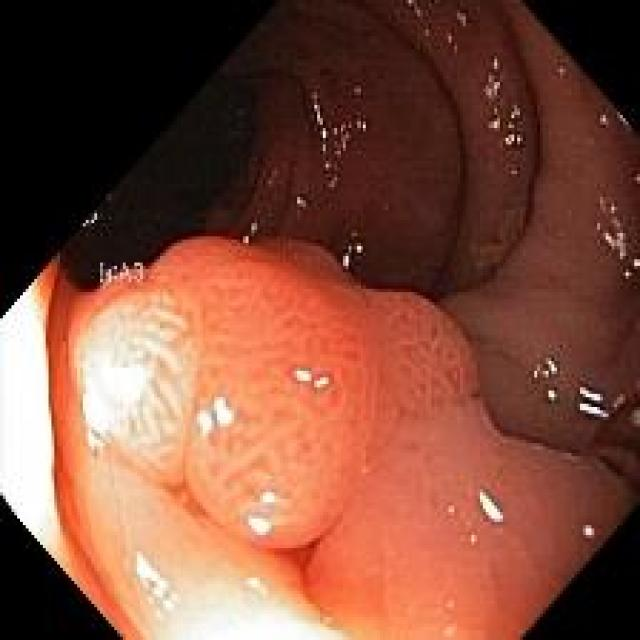Polyps: (71, 238, 631, 639)
